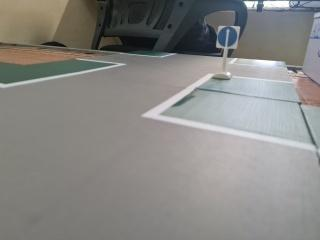straight: (216, 25, 239, 49)
